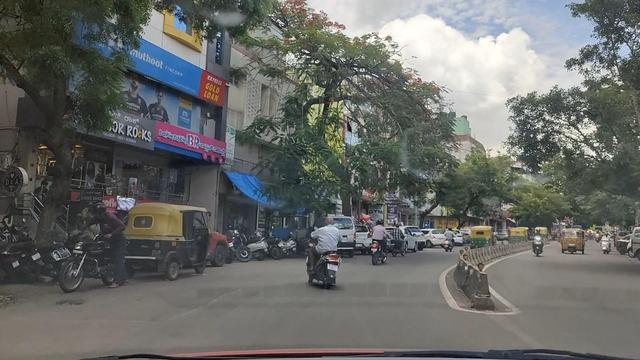LMV: (115, 193, 206, 278), (50, 200, 131, 286), (299, 204, 346, 293)
RoadDamages: (142, 278, 254, 323), (47, 280, 93, 319)
